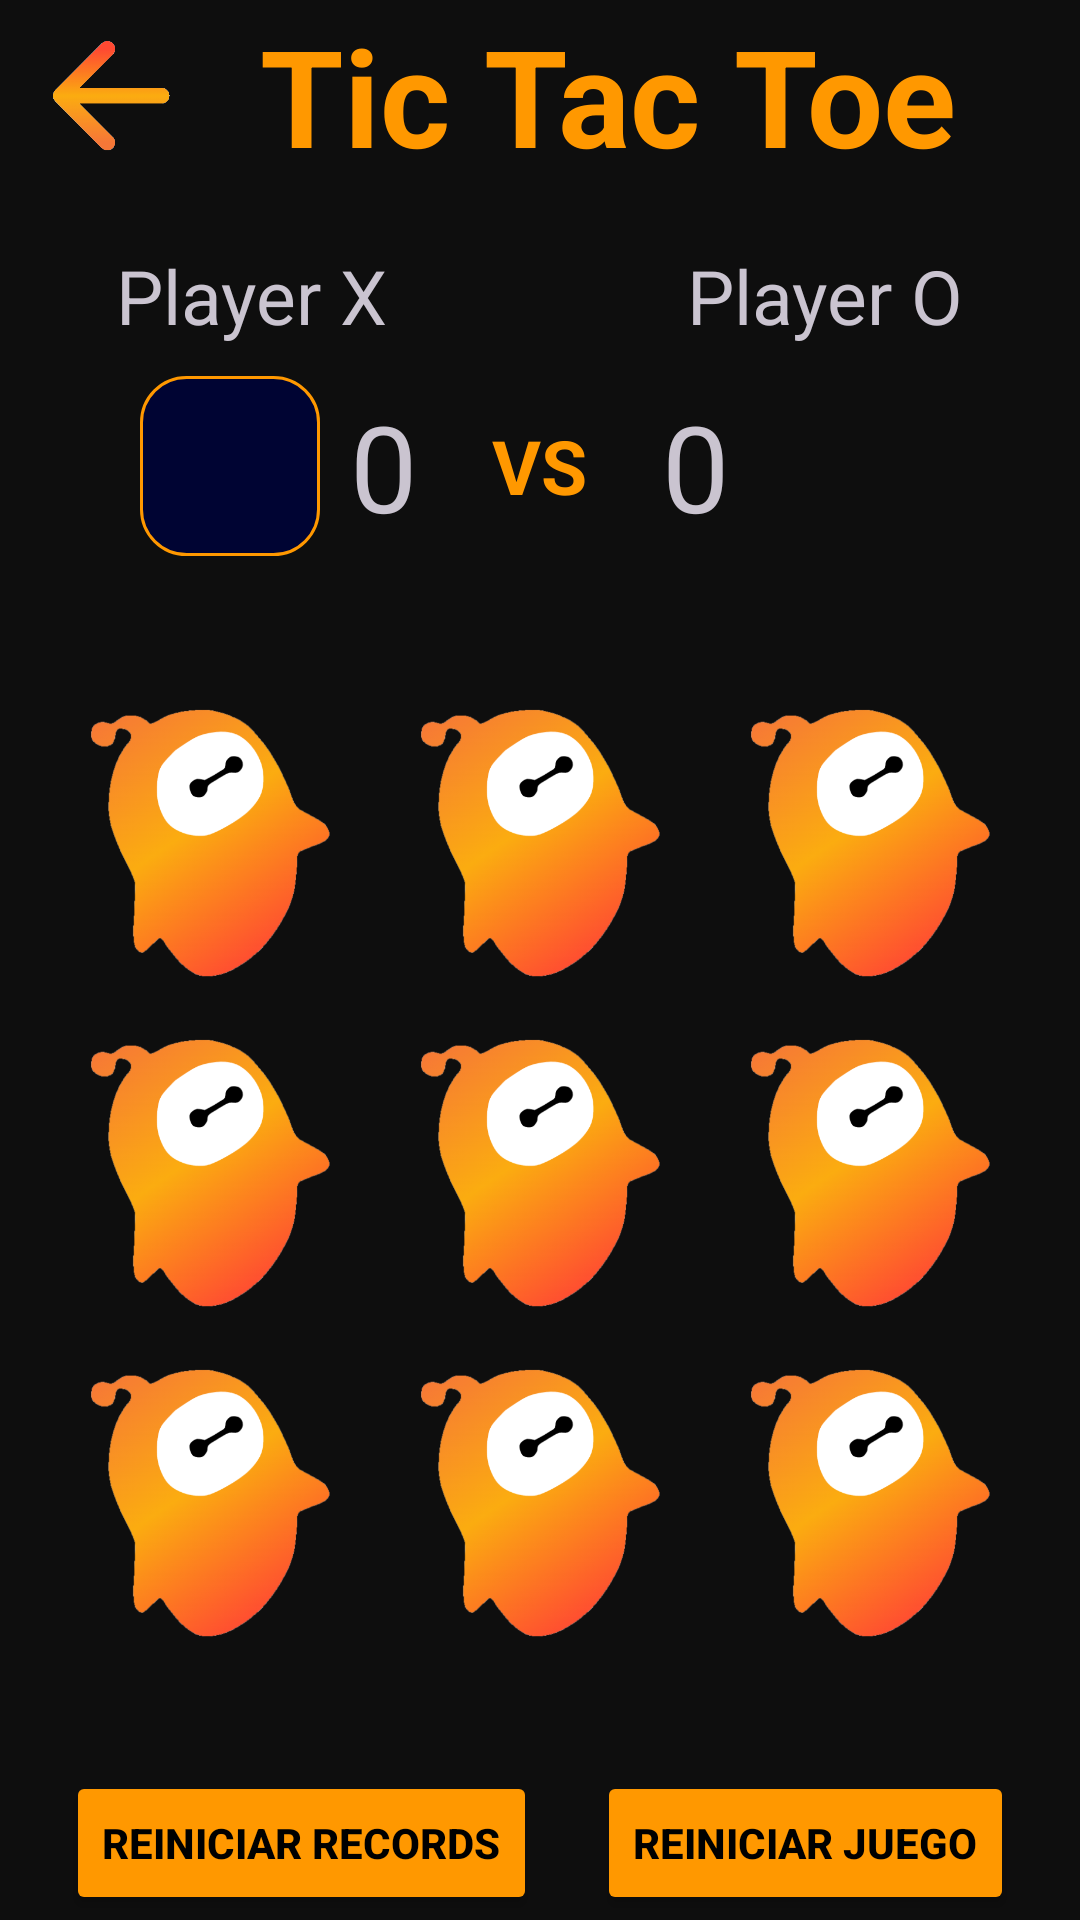

Where to tap for icons on this 1080×1920 app screen, as point (x, y):
Imagen 1: point (210, 843)
Imagen 2: point (540, 843)
Imagen 3: point (870, 843)
Imagen 4: point (210, 1173)
Imagen 5: point (540, 1173)
Imagen 6: point (870, 1173)
Imagen 7: point (210, 1503)
Imagen 8: point (540, 1503)
Imagen 9: point (870, 1503)
Regresar: point (111, 95)
